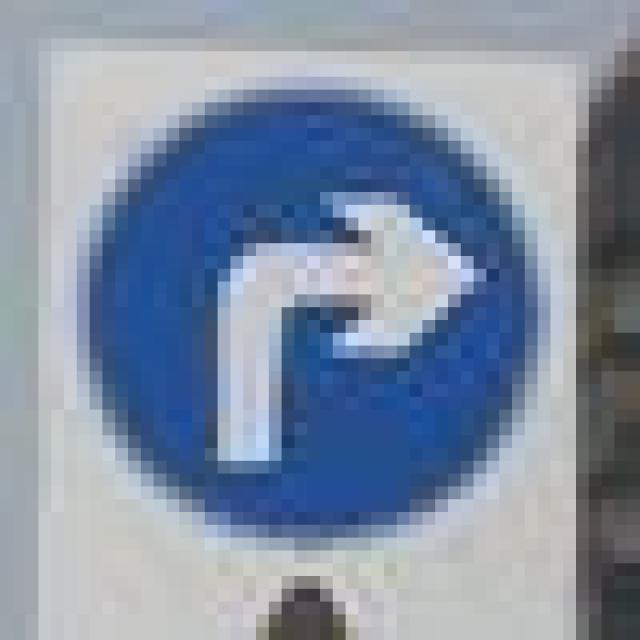railway_crossing: (64, 64, 538, 538)
